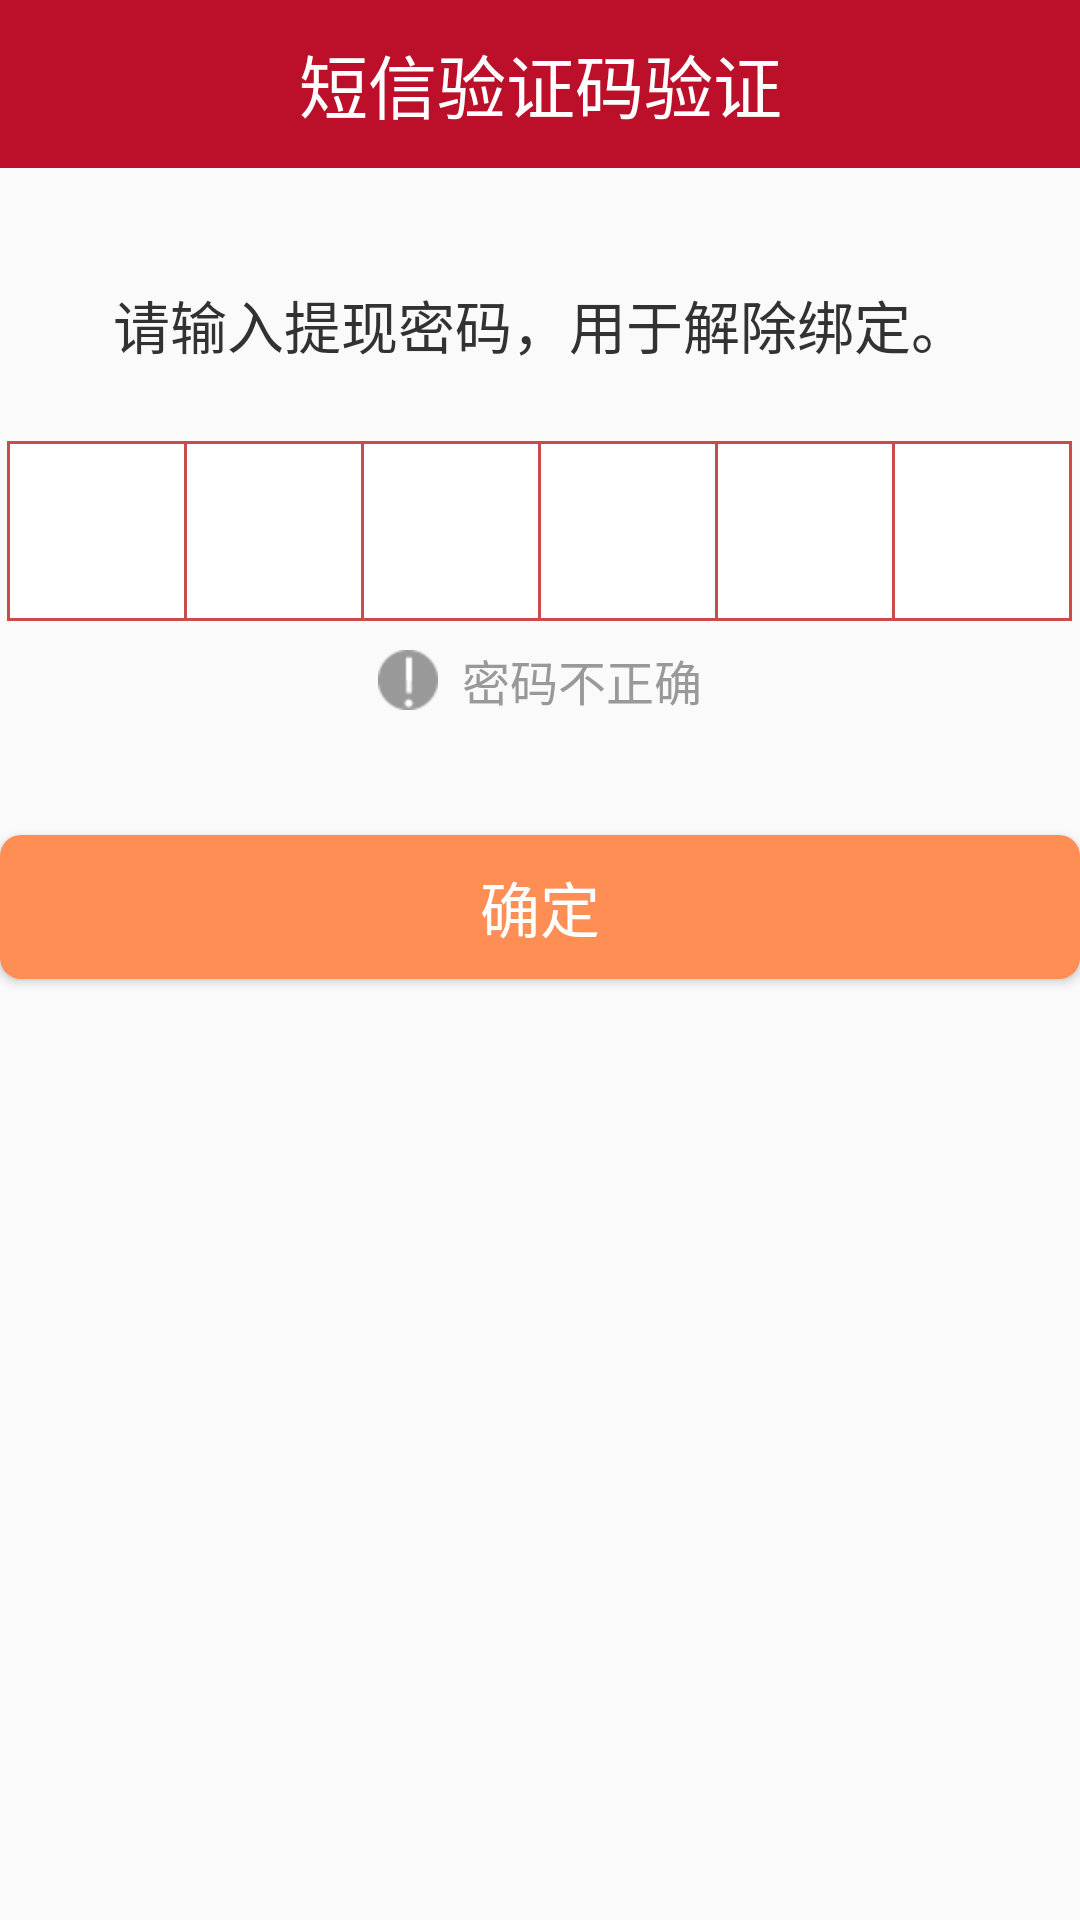

Where to tap for icons on this 1080px x 1920px app screen, as (x,y):
caution: (408,680)
